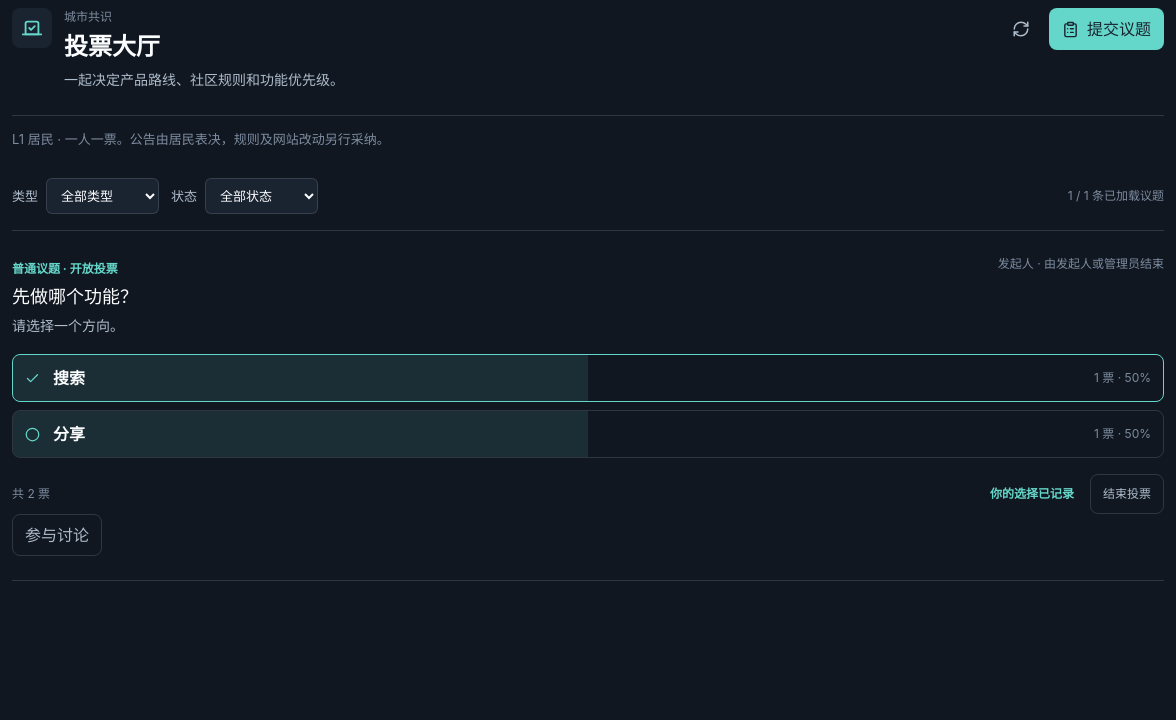
Scenario: ZeroCityPollHall › clears the previous viewer ballot and rejects a late list after switching accounts
This screenshot has width=1176, height=720.
Click the button named "刷新投票".
click(1021, 29)  # box top-left (1001, 9), bottom-right (1041, 49)
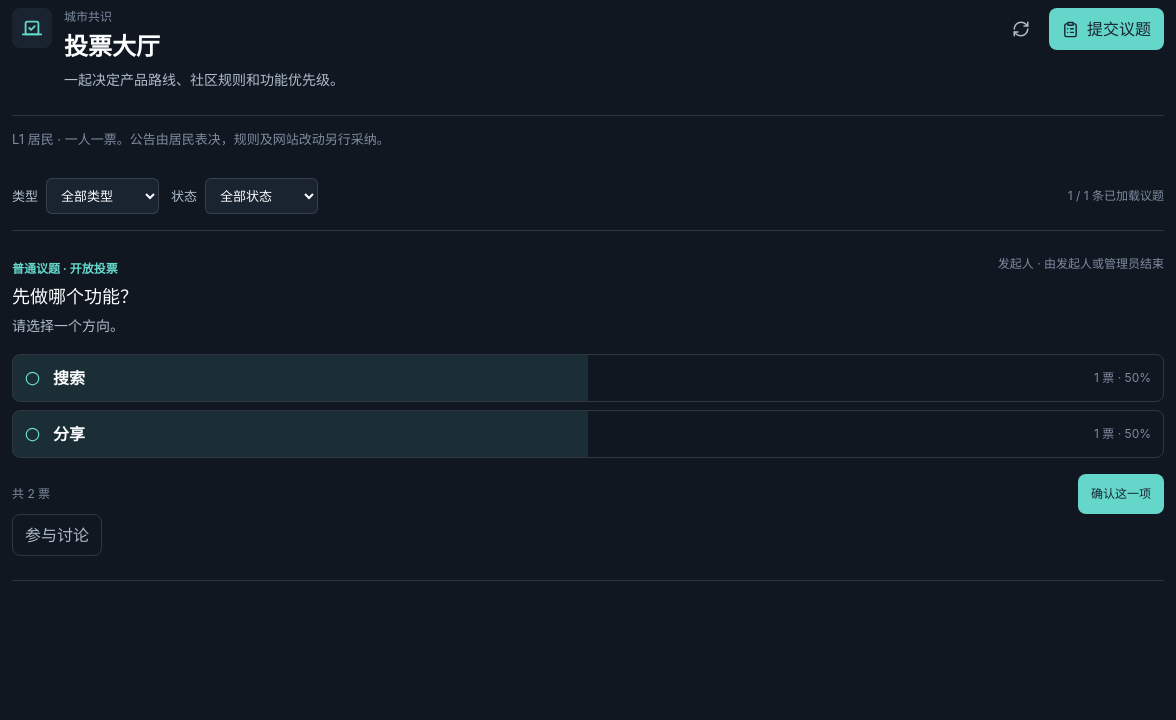
Check: the radio button labelled "搜索 1 票 · 50%" is not checked, box top-left (12, 354), bottom-right (1164, 402)
Check: the radio button labelled "搜索 1 票 · 50%" is enabled, box top-left (12, 354), bottom-right (1164, 402)
Check: the text "你的选择已记录" is gone
